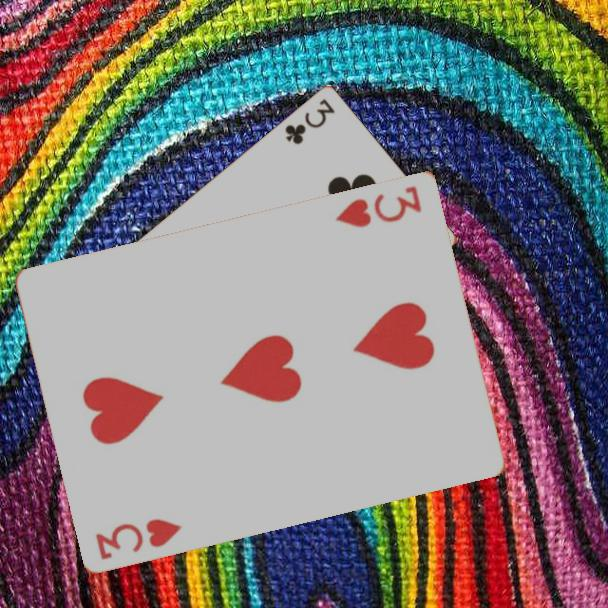c03: (281, 95, 338, 147)
h03: (92, 514, 186, 563), (332, 182, 425, 230)
